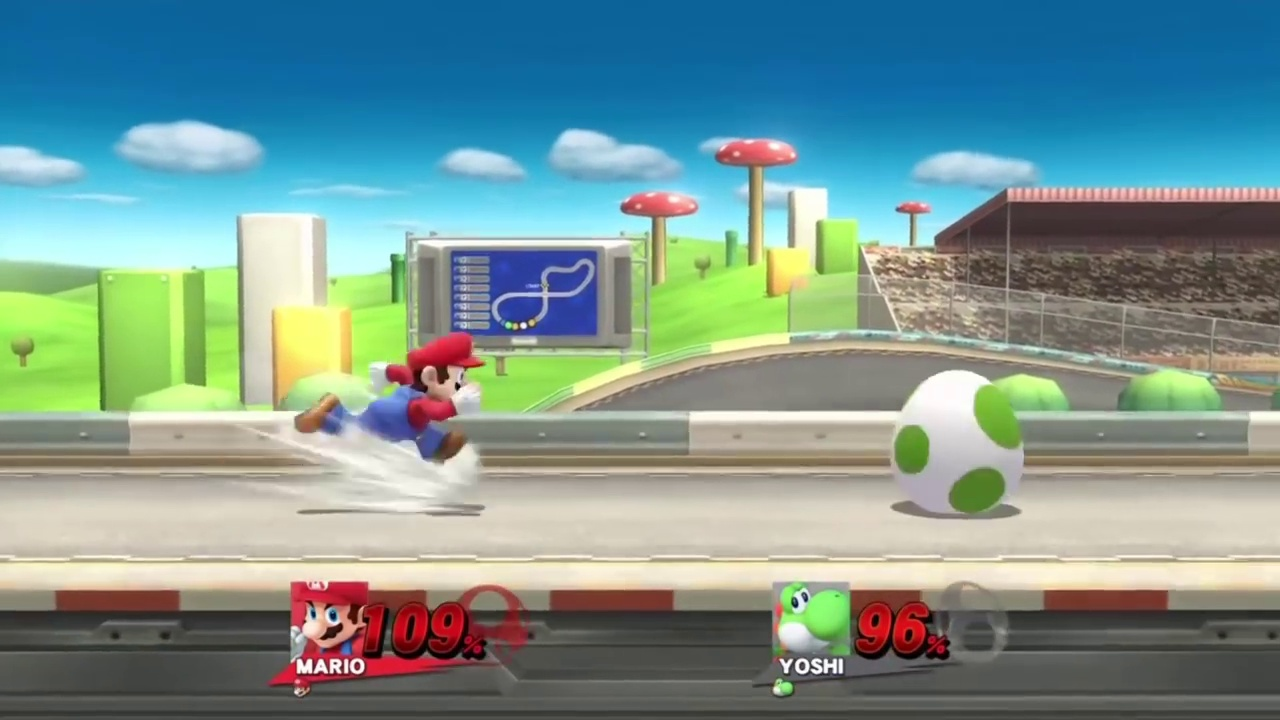Mario: (293, 334, 486, 470)
